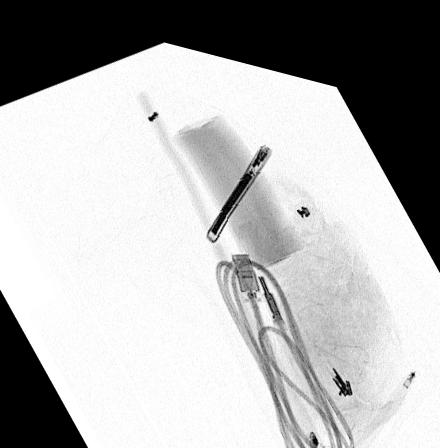Powerbank: (203, 127, 274, 234)
